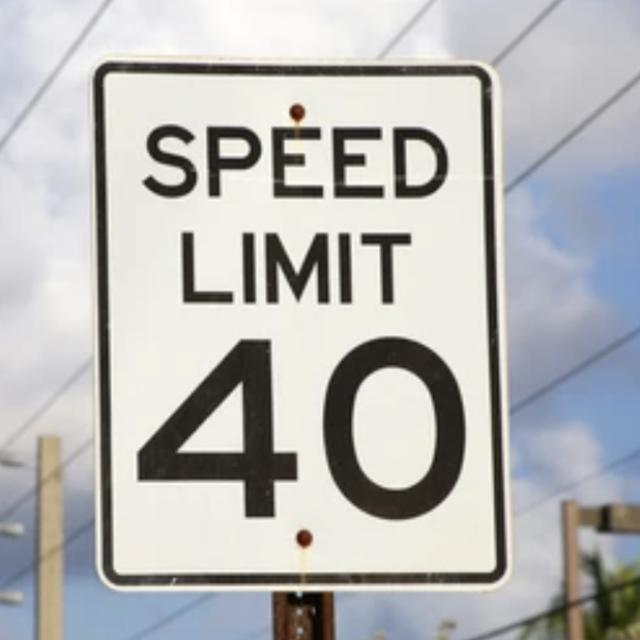speedLimit40: (106, 73, 488, 580)
